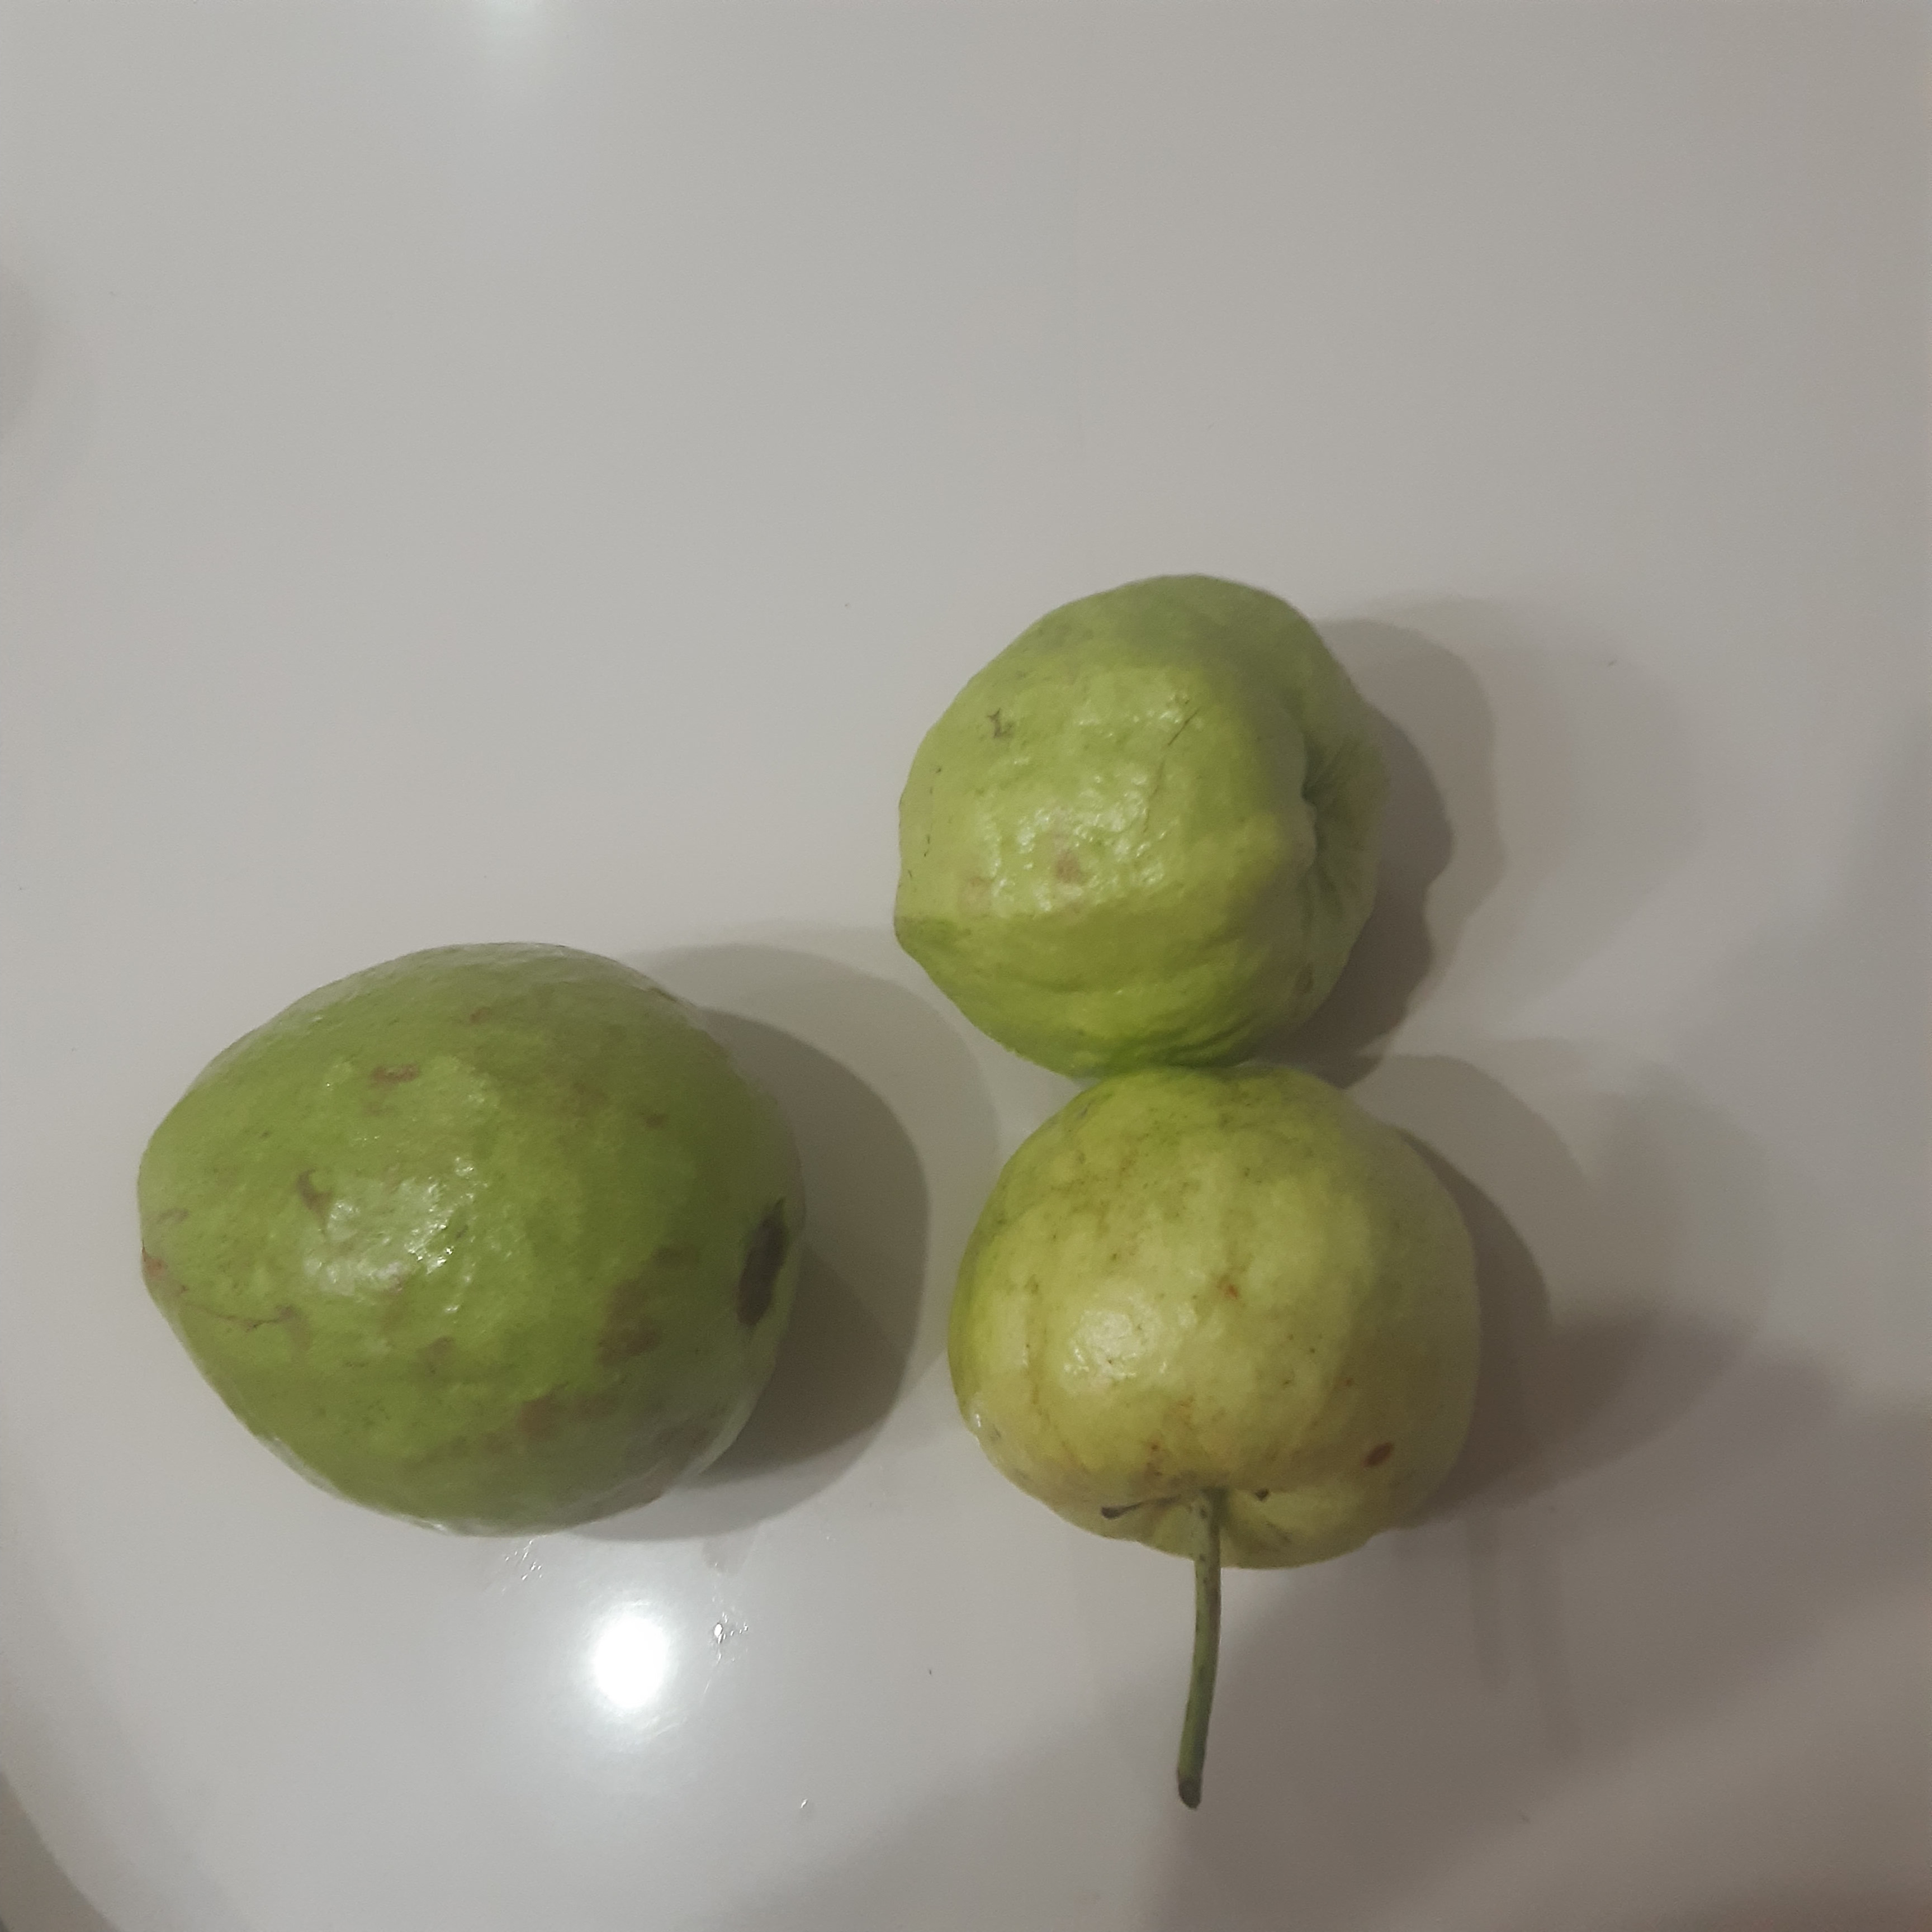Oi: (133, 943, 798, 1536), (954, 1070, 1481, 1575), (892, 579, 1384, 1086)
